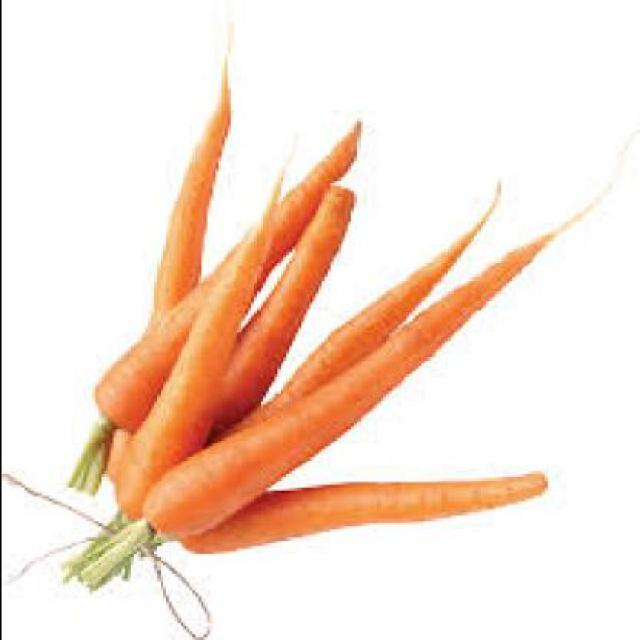BIODEGRADABLE: (58, 200, 576, 585), (64, 116, 358, 493), (202, 179, 496, 441), (112, 174, 279, 518), (100, 23, 223, 485), (177, 468, 543, 552)
